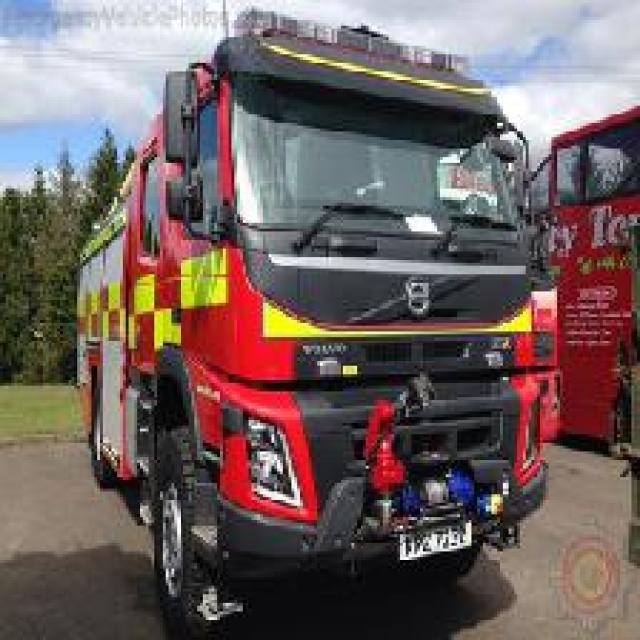Fire-truck: (69, 6, 560, 637), (534, 97, 637, 457)
